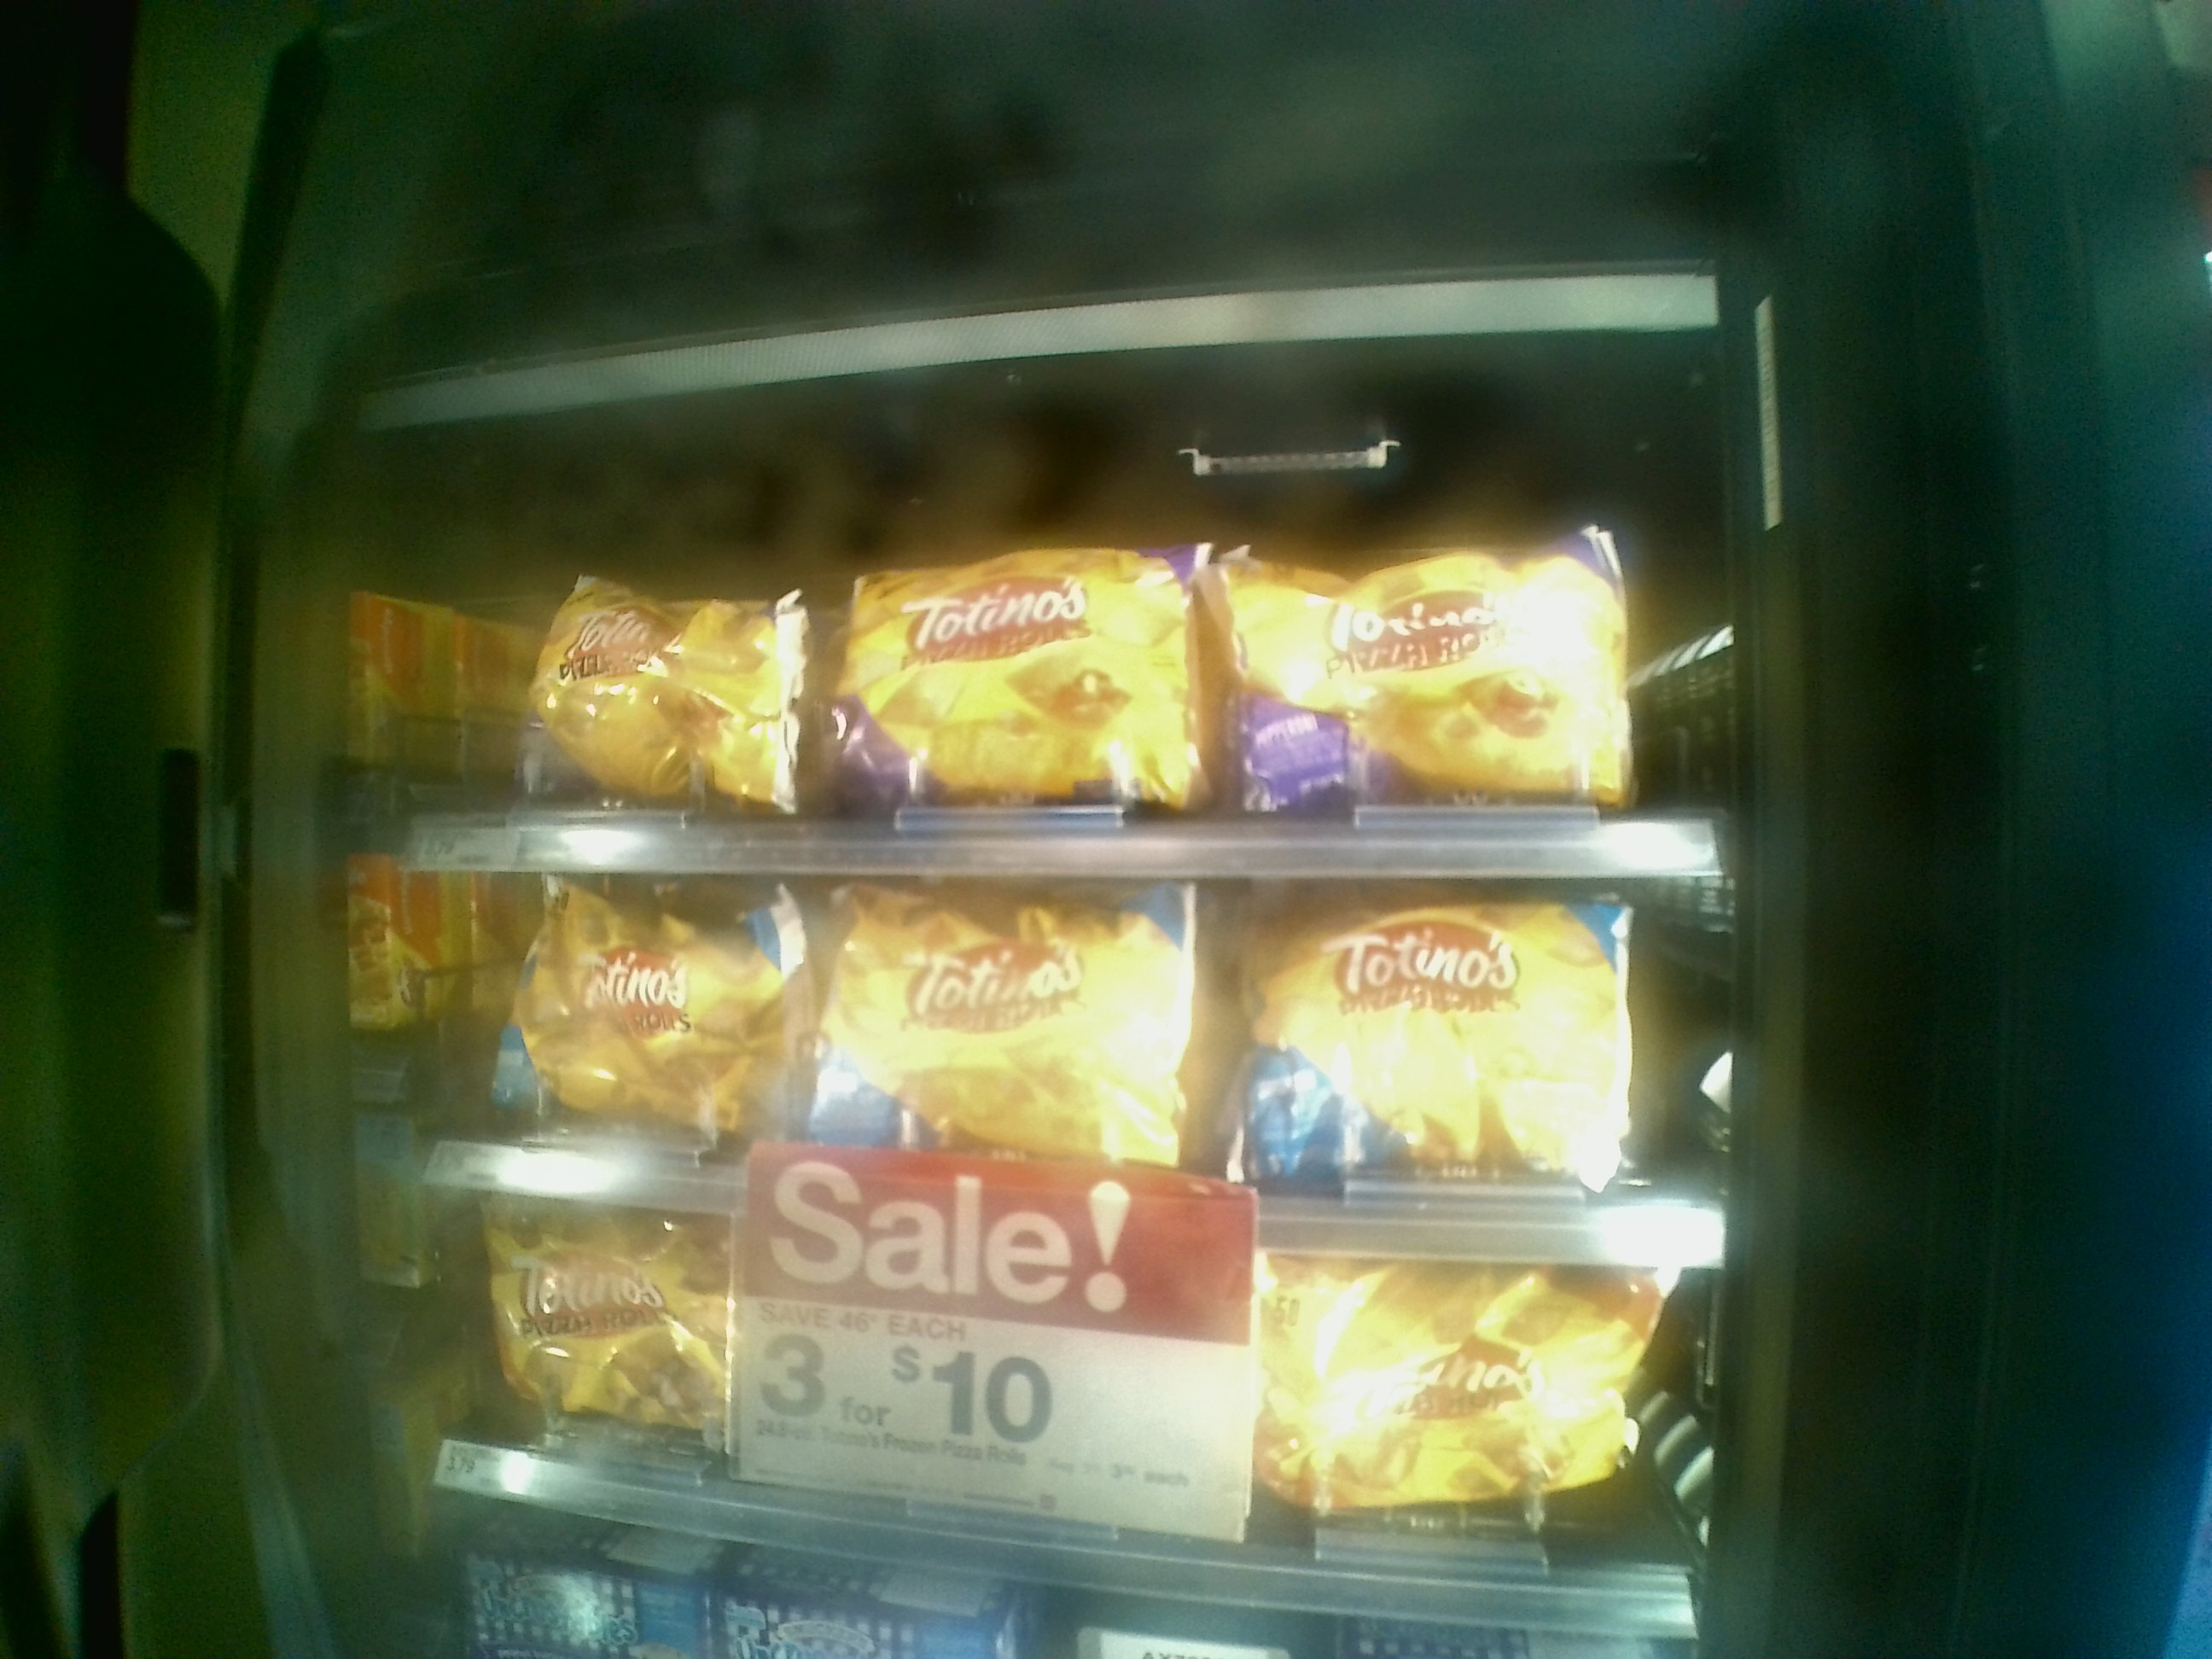shelf: (338, 401, 1742, 884), (341, 873, 1740, 1272), (329, 1260, 1726, 1650)
